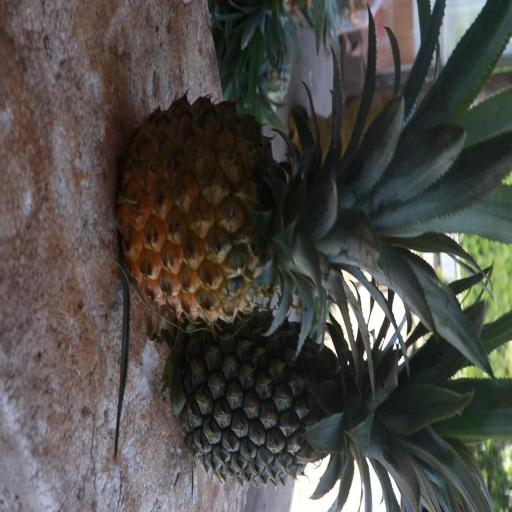Pineapple - v8 v1: (120, 102, 455, 318)
